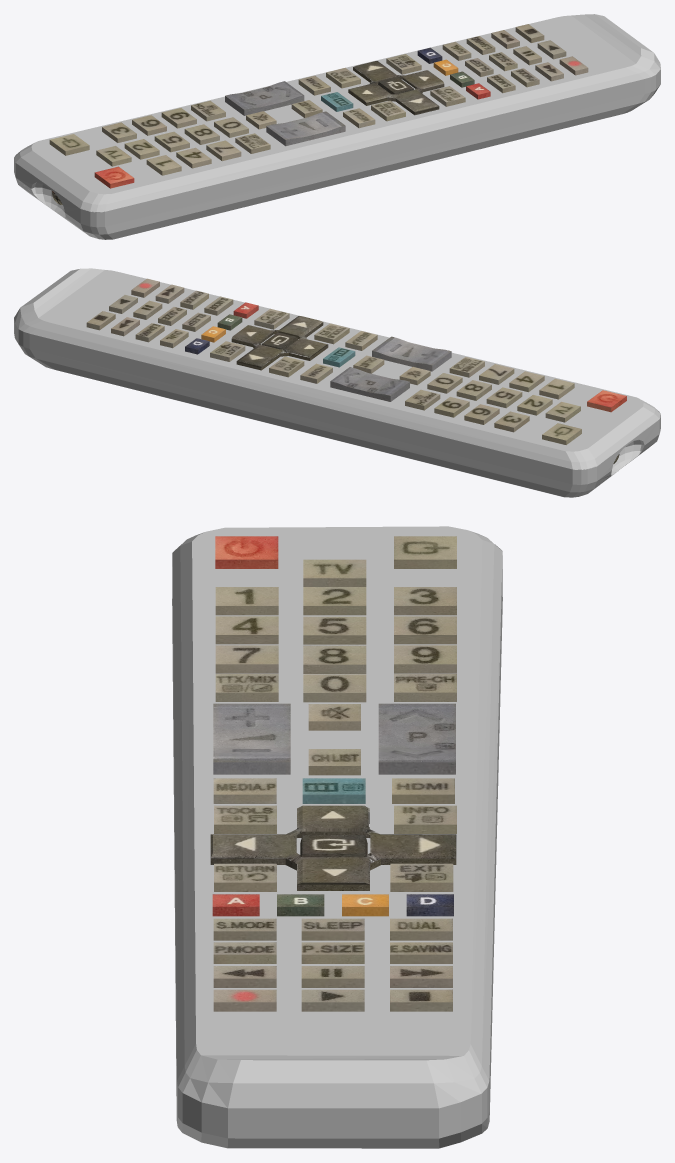
File: remote.obj
3 views of the same model, one above another, from view 1: azimuth 30°, elevation 25°; view 2: azimuth 150°, elevation 25°; view 3: azimuth 270°, elevation 25° (orthographic). The views are drawn at different scales.
Visible parts, largest first — view 1: Sphere_Sphere.001; view 2: Sphere_Sphere.001; view 3: Sphere_Sphere.001.
Boxes of the visible parts, <box> form: Sphere_Sphere.001: <box>14,14,660,239</box>; Sphere_Sphere.001: <box>14,268,660,497</box>; Sphere_Sphere.001: <box>172,526,502,1148</box>.
Size of the model in its own units: 7.86 by 0.6274 by 1.92.
